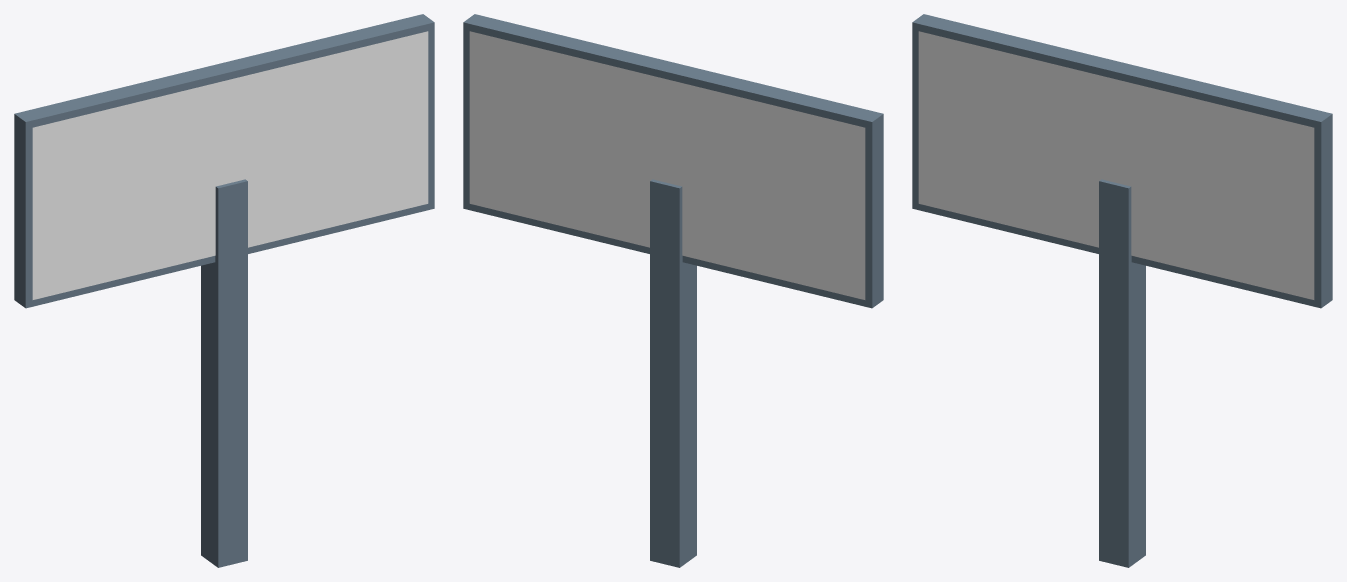
Rendered from highway_billboard.glb.
3 renders of one model, left to right at view 1: azimuth 30°, elevation 25°; view 2: azimuth 150°, elevation 25°; view 3: azimuth 330°, elevation 25°, orthographic.
Visible parts, largest first — view 1: Ad_Screen_Billboard_Highway_Mega_Front, Billboard_Highway_Mega_Struct; view 2: Ad_Screen_Billboard_Highway_Mega_Back, Billboard_Highway_Mega_Struct; view 3: Ad_Screen_Billboard_Highway_Mega_Front, Billboard_Highway_Mega_Struct.
Part boxes in pixels (<box>): Ad_Screen_Billboard_Highway_Mega_Front: <box>32,31,428,299</box>; Billboard_Highway_Mega_Struct: <box>14,14,434,567</box>; Ad_Screen_Billboard_Highway_Mega_Back: <box>469,31,865,299</box>; Billboard_Highway_Mega_Struct: <box>463,14,883,567</box>; Ad_Screen_Billboard_Highway_Mega_Front: <box>918,31,1314,299</box>; Billboard_Highway_Mega_Struct: <box>912,14,1332,567</box>.
Size of the model in its own units: 12.4 by 14.2 by 0.9.
